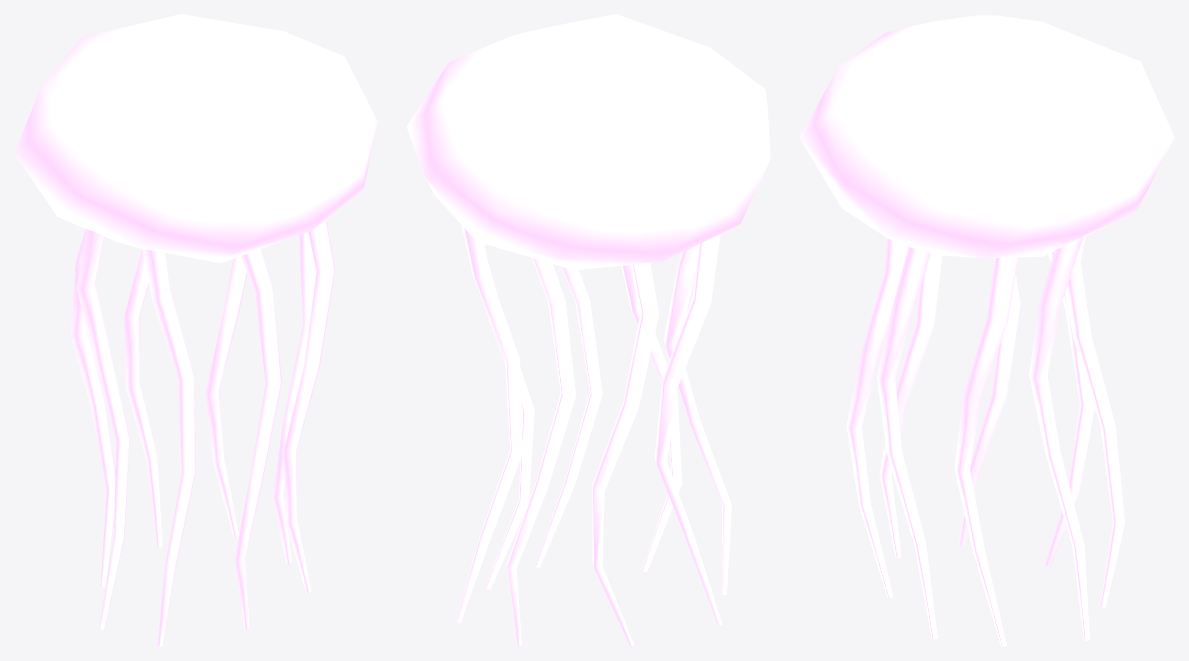
The model's file is critters.glb.
3 views of the same model, side by side, from view 1: azimuth 30°, elevation 25°; view 2: azimuth 150°, elevation 25°; view 3: azimuth 270°, elevation 25° (orthographic).
Parts seen in each view (by area): view 1: CRIT_jelly; view 2: CRIT_jelly; view 3: CRIT_jelly.
Part boxes in pixels (x1,y1,x2,y2): CRIT_jelly: (14,14,377,646); CRIT_jelly: (406,14,770,646); CRIT_jelly: (799,14,1174,646).
Size of the model in its own units: 1.19 by 2.01 by 1.22.
